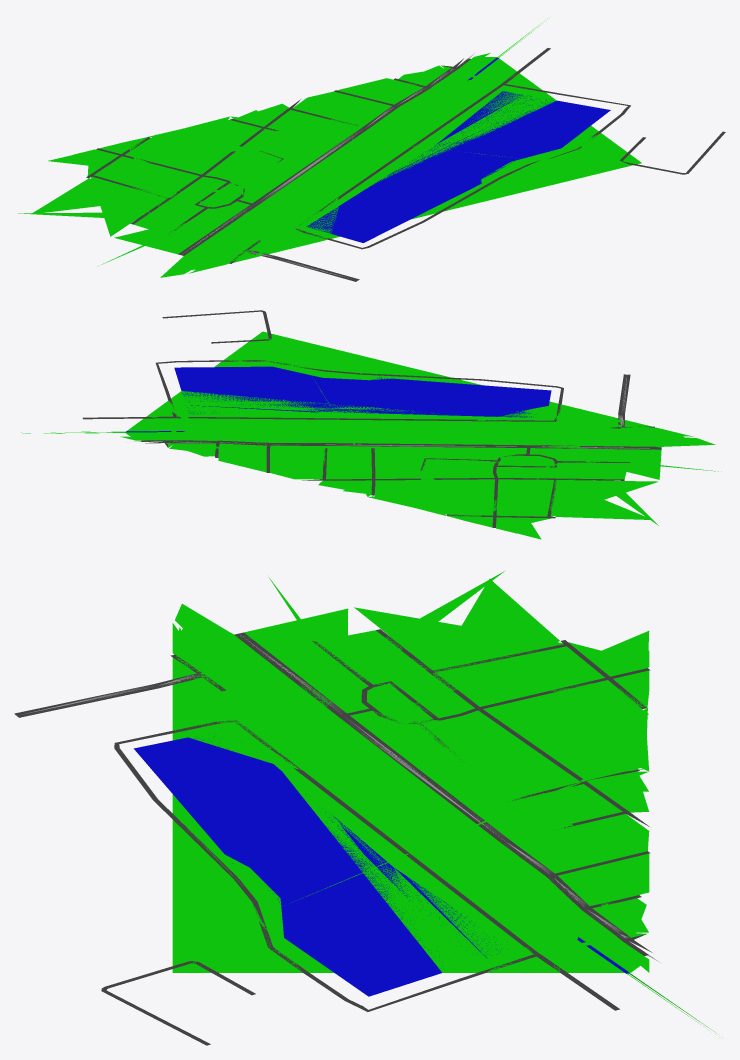
3 renders of one model, top to bottom at view 1: azimuth 30°, elevation 25°; view 2: azimuth 150°, elevation 25°; view 3: azimuth 270°, elevation 25°, orthographic. The views are drawn at different scales.
Bounding box in the file's own units: 709 × 1 × 448.
